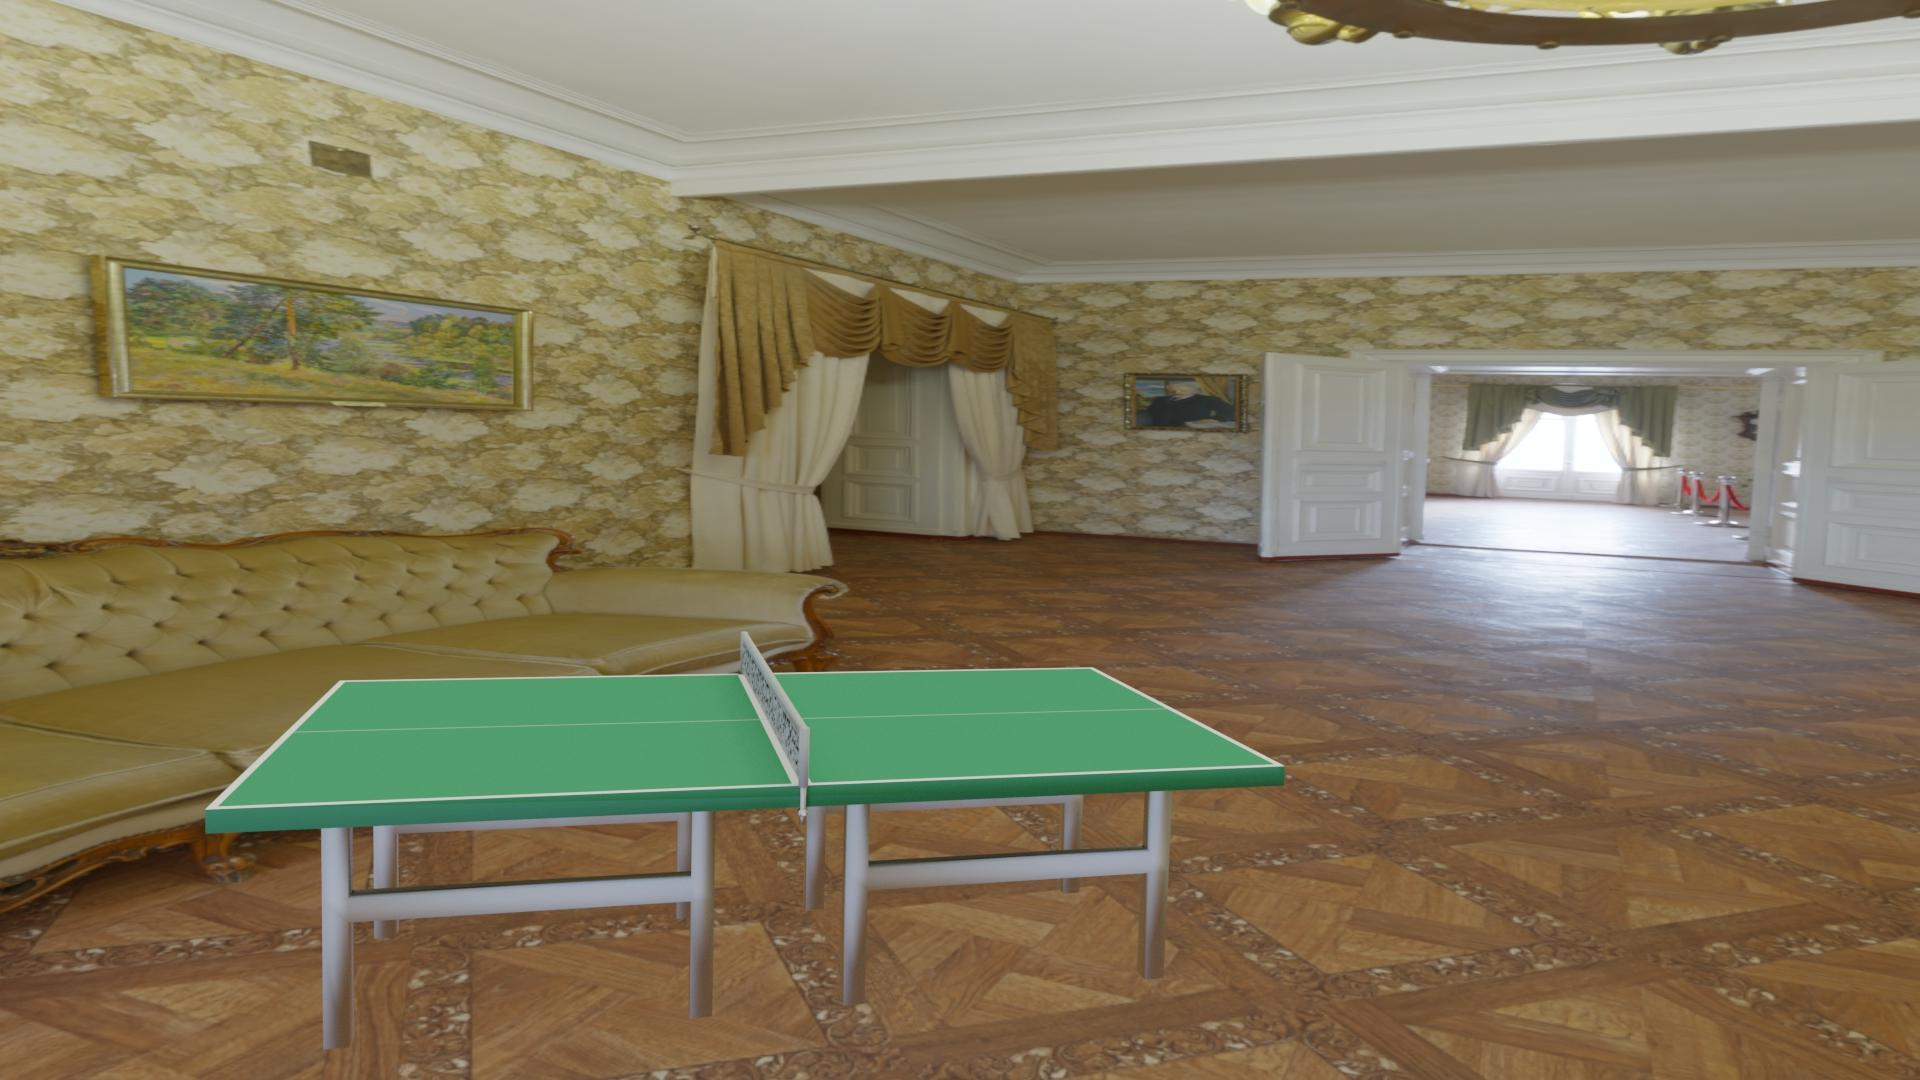table: (218, 669, 1275, 807)
